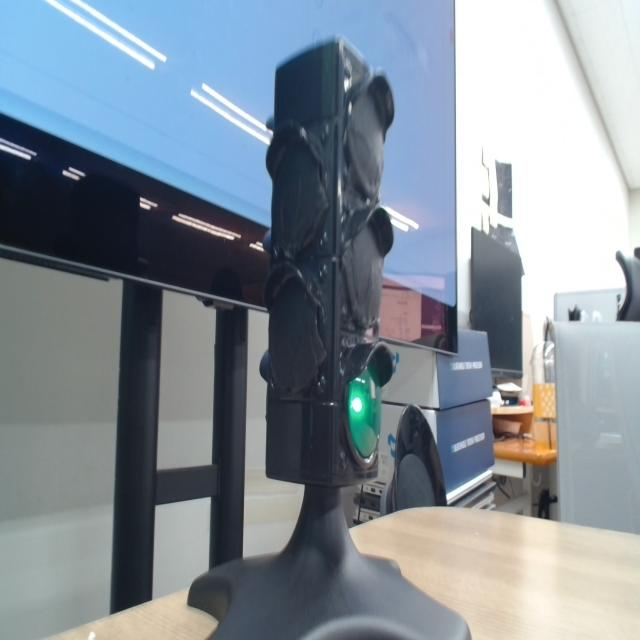green_light: (348, 368, 381, 458)
